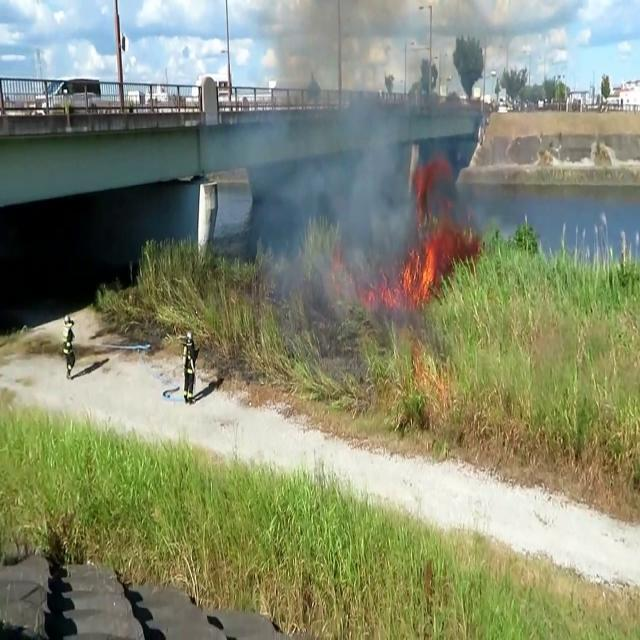Fire: (397, 142, 468, 311)
Smoke: (244, 14, 406, 317)
